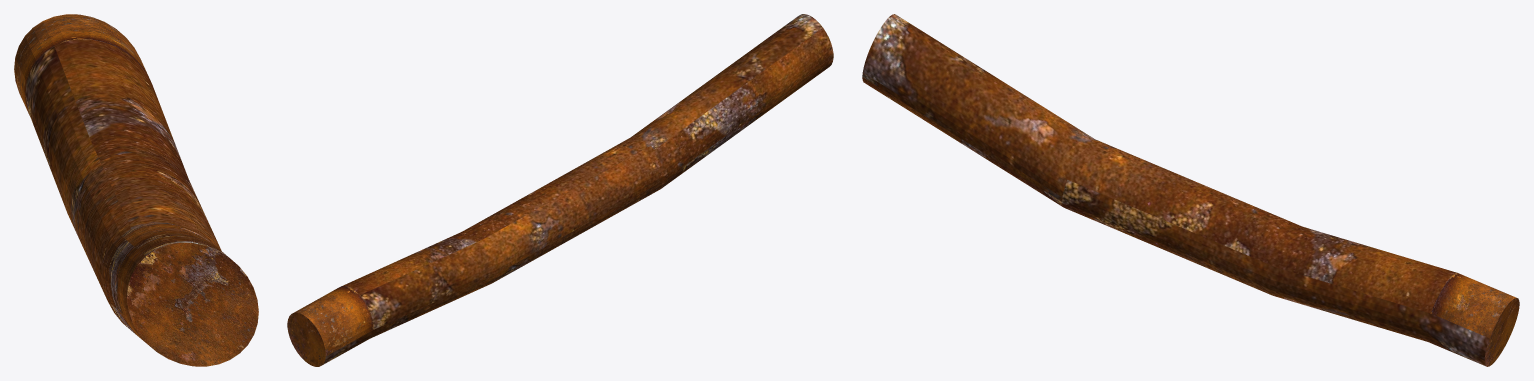
The model's file is MaderaFierro1.fbx.
3 renders of one model, left to right at view 1: azimuth 30°, elevation 25°; view 2: azimuth 150°, elevation 25°; view 3: azimuth 270°, elevation 25°, orthographic. The views are drawn at different scales.
Visible parts, largest first — view 1: Cylinder.021; view 2: Cylinder.021; view 3: Cylinder.021.
Boxes of the visible parts, x1=… form: Cylinder.021: x1=14, y1=14, x2=258, y2=366; Cylinder.021: x1=287, y1=14, x2=833, y2=366; Cylinder.021: x1=862, y1=14, x2=1519, y2=366.
Bounding box in the file's own units: 221 × 155 × 412.
